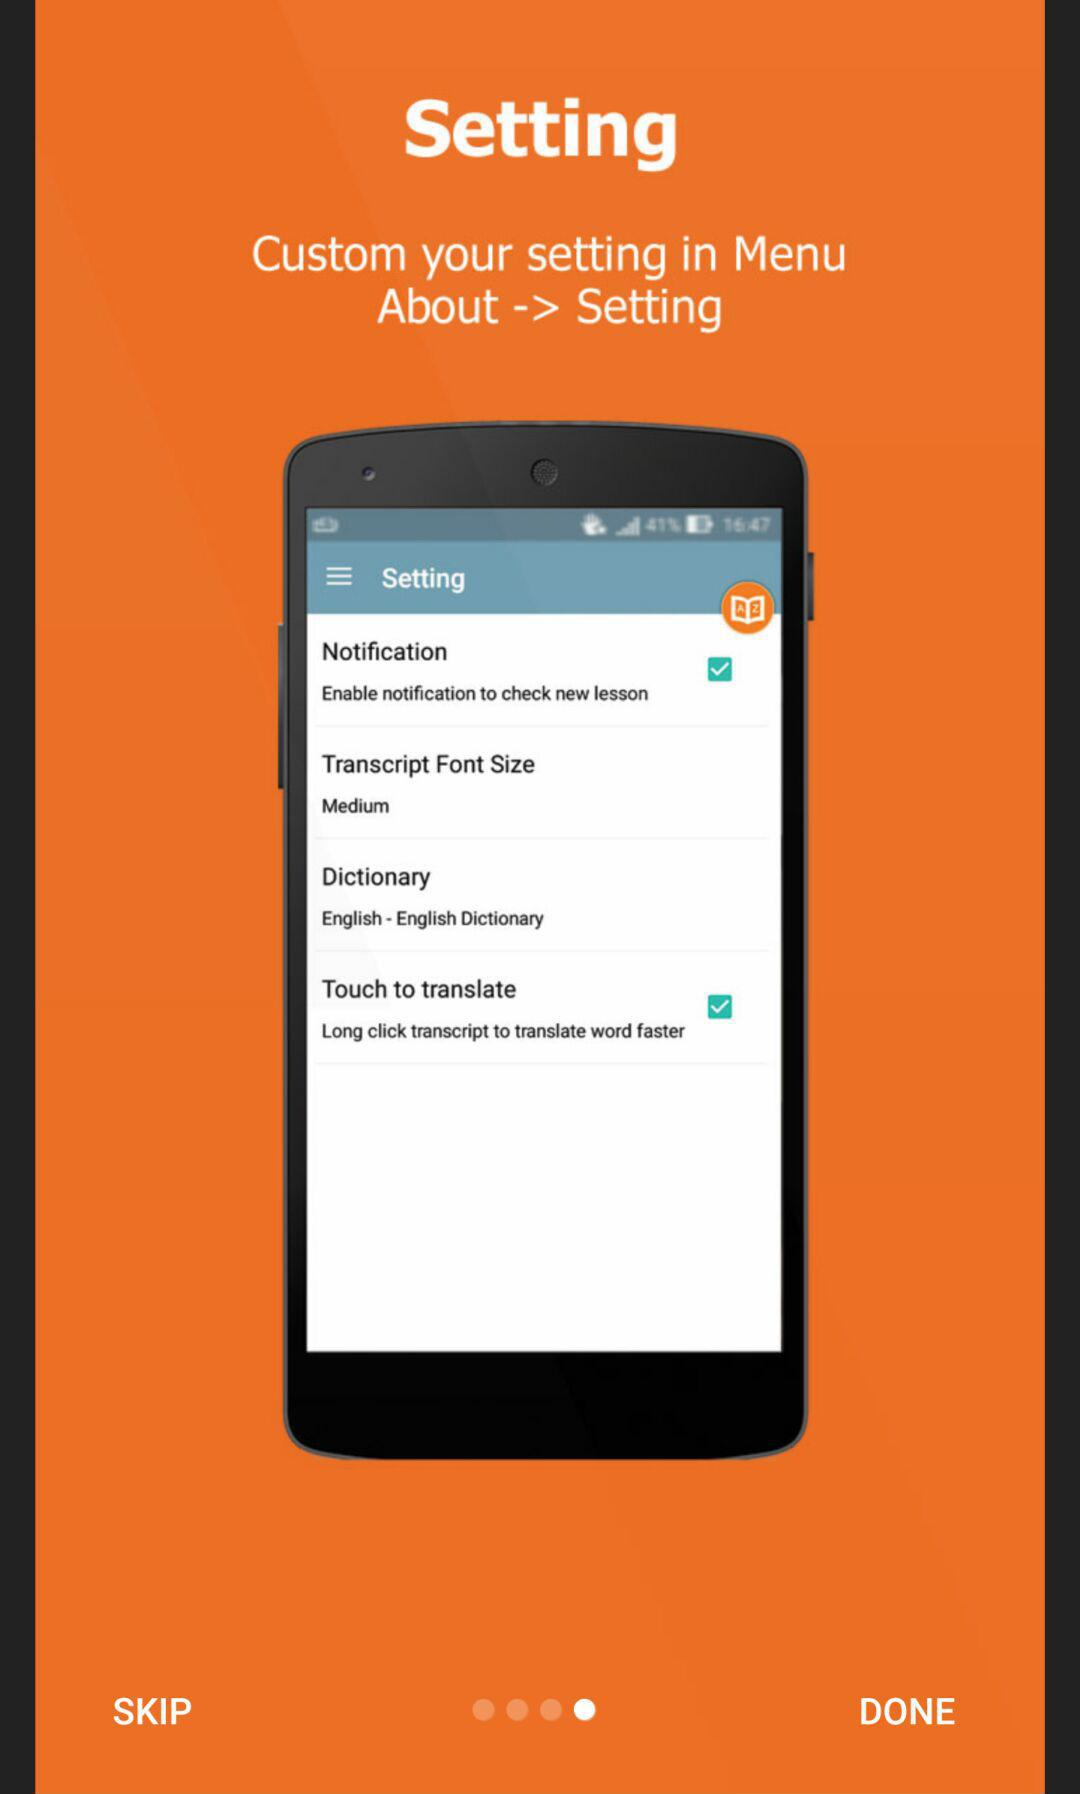Image: (277, 420, 817, 1462)
PageIndicator: (469, 1697, 600, 1724)
Text: (252, 235, 847, 337), (404, 97, 679, 176), (858, 1697, 958, 1727), (111, 1695, 193, 1727)
